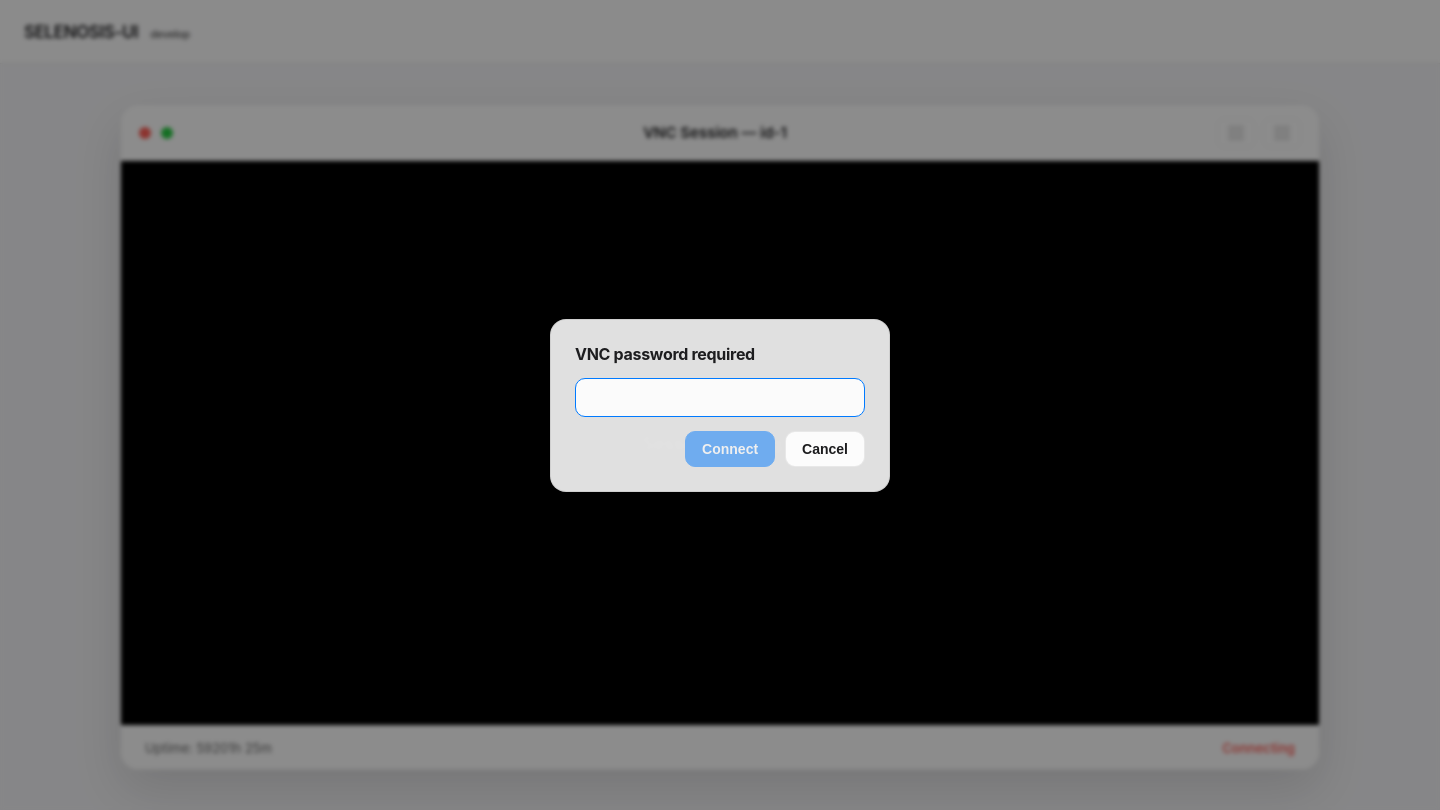
manual entry › cancelling the prompt disconnects with a notice
Expected: the password field named "VNC password" is shown, x1=575 y1=378 x2=865 y2=416
Click the button "Cancel": click(825, 448) x1=785 y1=430 x2=865 y2=466
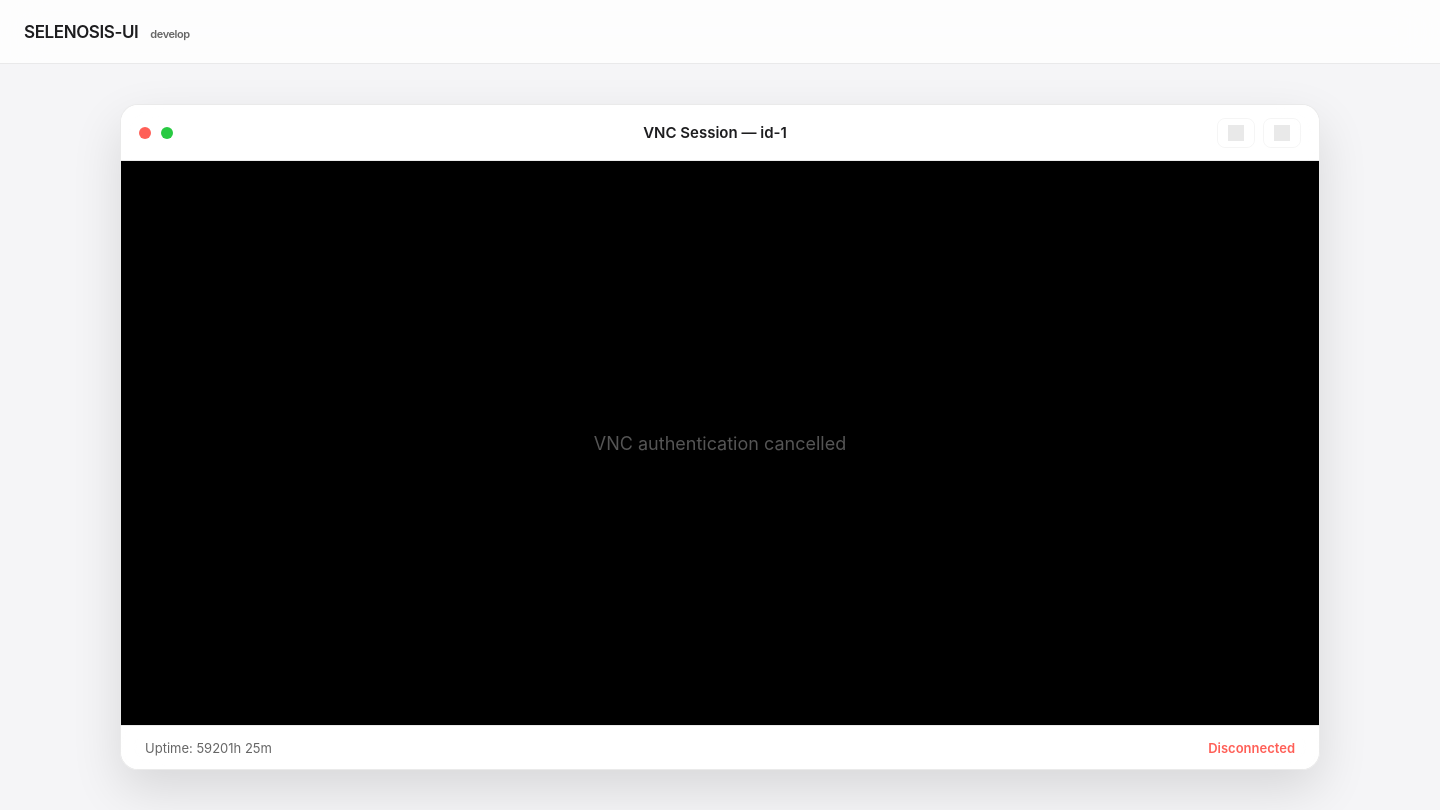
Now the text "VNC authentication cancelled" is shown, box x1=594 y1=432 x2=846 y2=454
